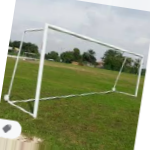goals: (8, 22, 144, 117)
